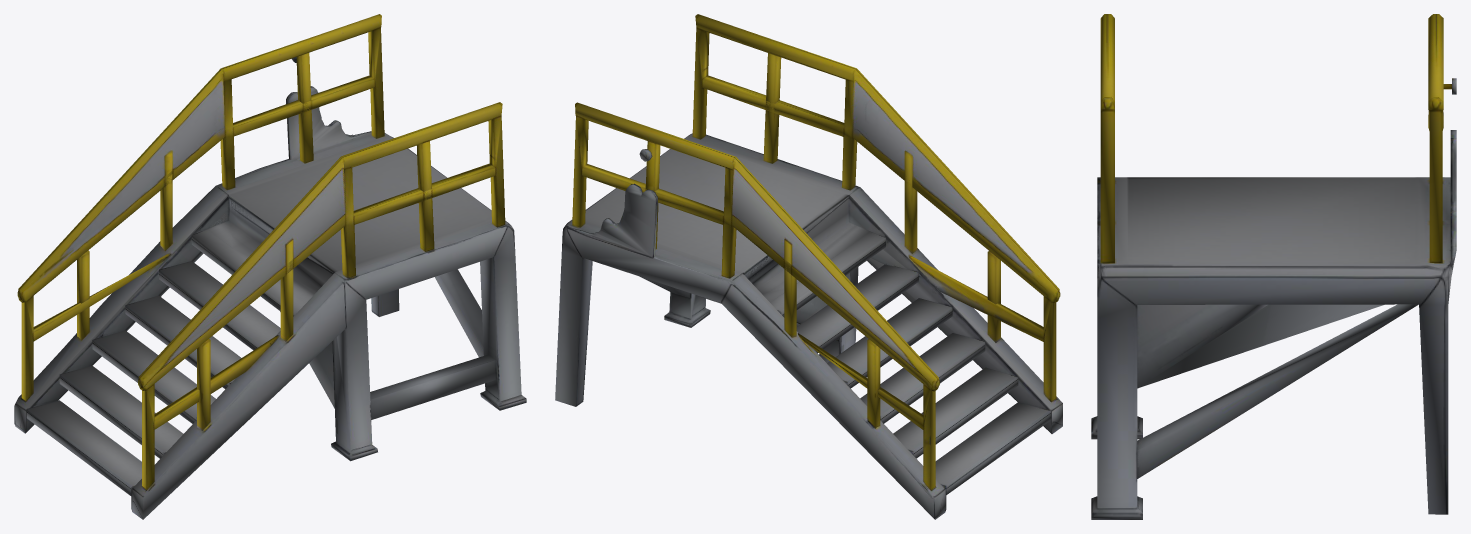
Rendered from 019e622d-9bca-7944-b3bb-3cd6bf1d4286.glb.
The picture shows the model from 3 angles, left to right: view 1: azimuth 30°, elevation 25°; view 2: azimuth 150°, elevation 25°; view 3: azimuth 270°, elevation 25°; orthographic projection. The views are drawn at different scales.
Parts seen in each view (by area): view 1: tripo_node_9838815e-b5b7-4134-9633-265089d2b2ab; view 2: tripo_node_9838815e-b5b7-4134-9633-265089d2b2ab; view 3: tripo_node_9838815e-b5b7-4134-9633-265089d2b2ab.
Part boxes in pixels (left/top/right/bottom): tripo_node_9838815e-b5b7-4134-9633-265089d2b2ab: left=14, top=14, right=526, bottom=519; tripo_node_9838815e-b5b7-4134-9633-265089d2b2ab: left=555, top=14, right=1062, bottom=519; tripo_node_9838815e-b5b7-4134-9633-265089d2b2ab: left=1091, top=14, right=1456, bottom=519.
Size of the model in its own units: 0.998 by 0.8145 by 0.6074.
Materials: 1 (1 with a texture image).
